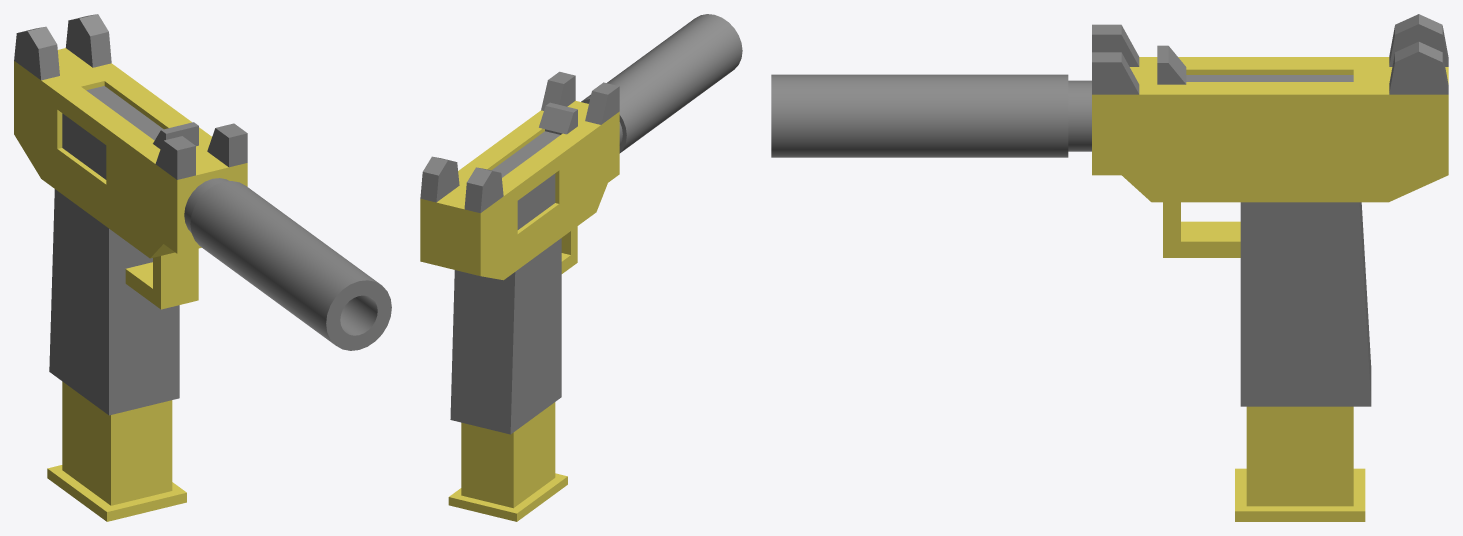
The model's file is uziGoldSilencer.glb.
The picture shows the model from 3 angles, left to right: view 1: azimuth 30°, elevation 25°; view 2: azimuth 150°, elevation 25°; view 3: azimuth 270°, elevation 25°; orthographic projection. The views are drawn at different scales.
Parts seen in each view (by area): view 1: Mesh2 Group3 Group1 Model, Mesh3 Group4 Group1 Model, Mesh1 Group2 Group1 Model, Mesh4 Group5 Group1 Model; view 2: Mesh2 Group3 Group1 Model, Mesh3 Group4 Group1 Model, Mesh1 Group2 Group1 Model, Mesh4 Group5 Group1 Model; view 3: Mesh2 Group3 Group1 Model, Mesh3 Group4 Group1 Model, Mesh1 Group2 Group1 Model, Mesh4 Group5 Group1 Model.
Part boxes in pixels (bbox=[...]): Mesh2 Group3 Group1 Model: bbox=[14, 14, 247, 415]; Mesh3 Group4 Group1 Model: bbox=[190, 181, 391, 350]; Mesh1 Group2 Group1 Model: bbox=[47, 381, 186, 521]; Mesh4 Group5 Group1 Model: bbox=[153, 122, 198, 149]; Mesh2 Group3 Group1 Model: bbox=[420, 71, 622, 434]; Mesh3 Group4 Group1 Model: bbox=[581, 14, 742, 153]; Mesh1 Group2 Group1 Model: bbox=[448, 402, 567, 521]; Mesh4 Group5 Group1 Model: bbox=[539, 102, 577, 134]; Mesh2 Group3 Group1 Model: bbox=[1068, 14, 1448, 406]; Mesh3 Group4 Group1 Model: bbox=[771, 74, 1068, 157]; Mesh1 Group2 Group1 Model: bbox=[1235, 406, 1365, 521]; Mesh4 Group5 Group1 Model: bbox=[1157, 45, 1186, 84].
Size of the model in its own units: 0.0102 by 0.0522 by 0.0685.
